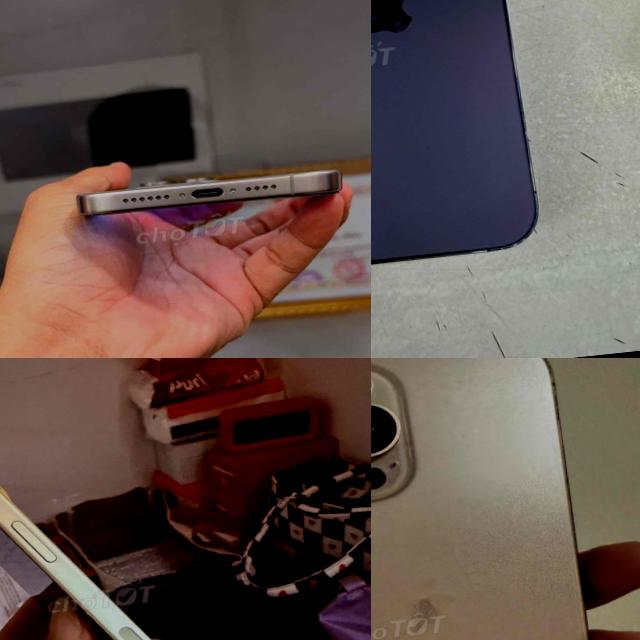gen_14: (371, 0, 555, 287)
gen_15: (0, 397, 292, 640), (58, 149, 362, 242)
gen_16: (371, 358, 640, 640)
